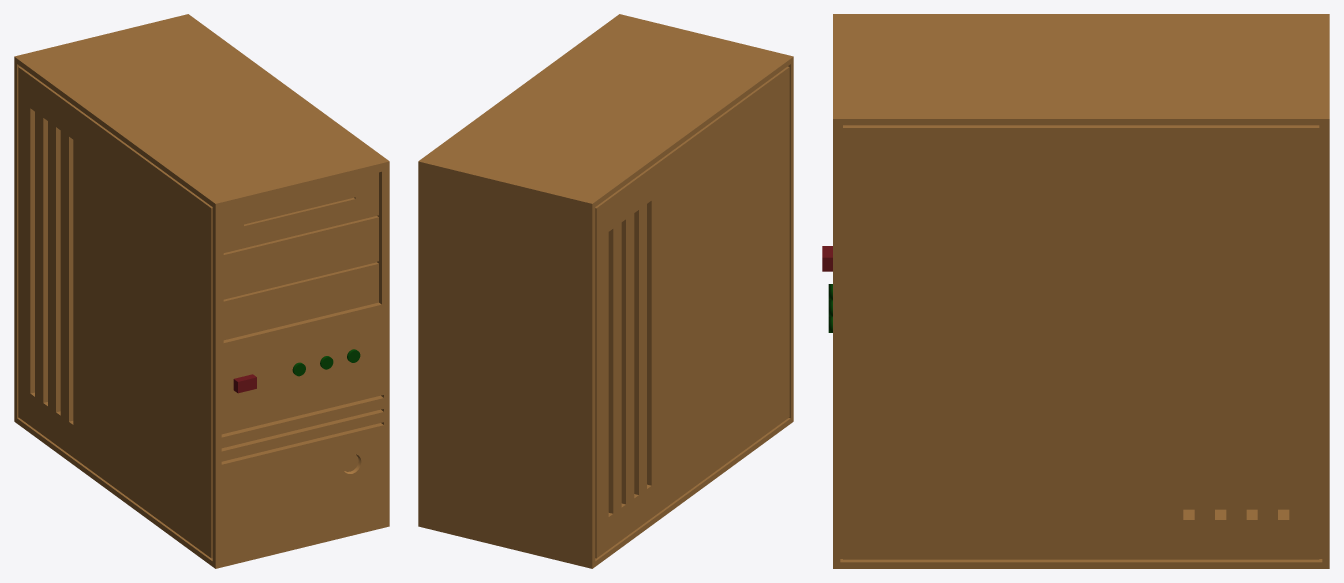
Rendered from workstation_tier1.fbx.
3 views of the same model, side by side, from view 1: azimuth 30°, elevation 25°; view 2: azimuth 150°, elevation 25°; view 3: azimuth 270°, elevation 25° (orthographic). The views are drawn at different scales.
Visible parts, largest first — view 1: Cube; view 2: Cube; view 3: Cube.
Boxes of the visible parts, x1,y1,x2,y2 form: Cube: (14,14,389,568); Cube: (418,14,793,568); Cube: (833,14,1329,568).
Size of the model in its own units: 0.4262 by 0.8533 by 0.8713.
